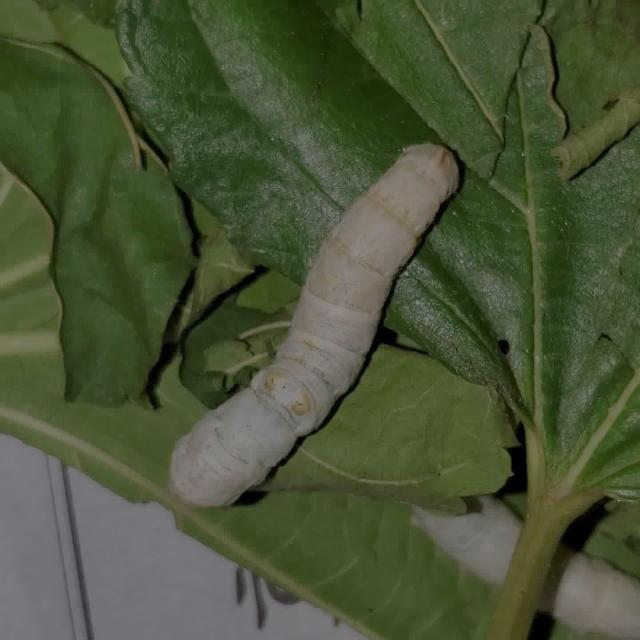Healthy: (125, 108, 542, 533)
